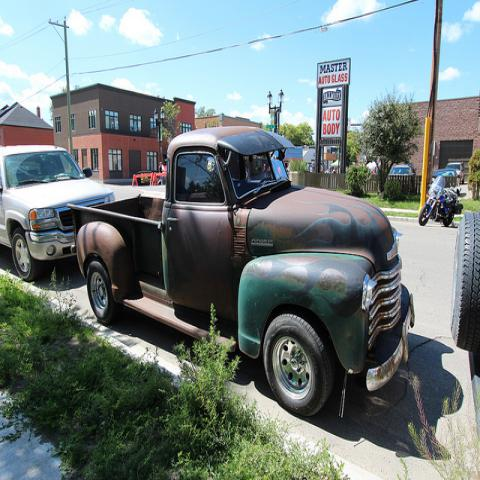car: (446, 208, 480, 441), (445, 161, 465, 184), (389, 165, 409, 175), (433, 169, 459, 176), (366, 160, 378, 174)
motorcycle: (419, 175, 464, 228)
truck: (70, 131, 414, 415), (2, 133, 121, 283)
